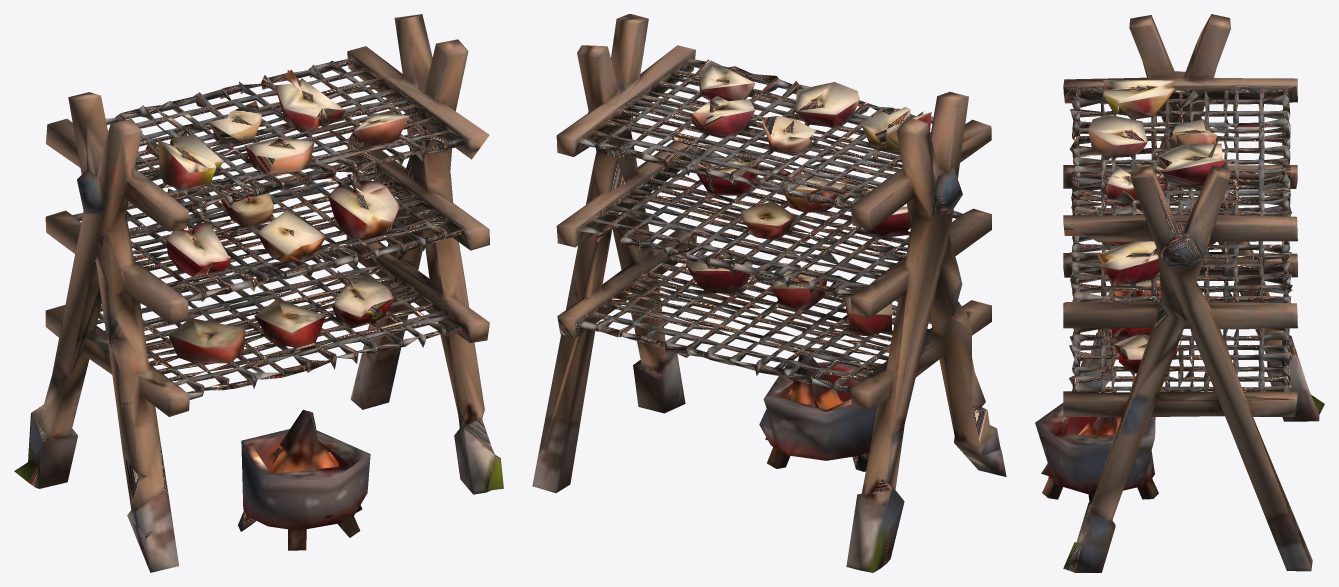
File: honganji-1.glb
3 renders of one model, left to right at view 1: azimuth 30°, elevation 25°; view 2: azimuth 150°, elevation 25°; view 3: azimuth 270°, elevation 25°, orthographic. The views are drawn at different scales.
Parts seen in each view (by area): view 1: node_0; view 2: node_0; view 3: node_0.
Part boxes in pixels (bbox=[...]): node_0: bbox=[14, 14, 503, 572]; node_0: bbox=[532, 14, 1006, 572]; node_0: bbox=[1035, 14, 1324, 572].
Size of the model in its own units: 0.7439 by 0.8154 by 0.5391.
Materials: 1 (1 with a texture image).
